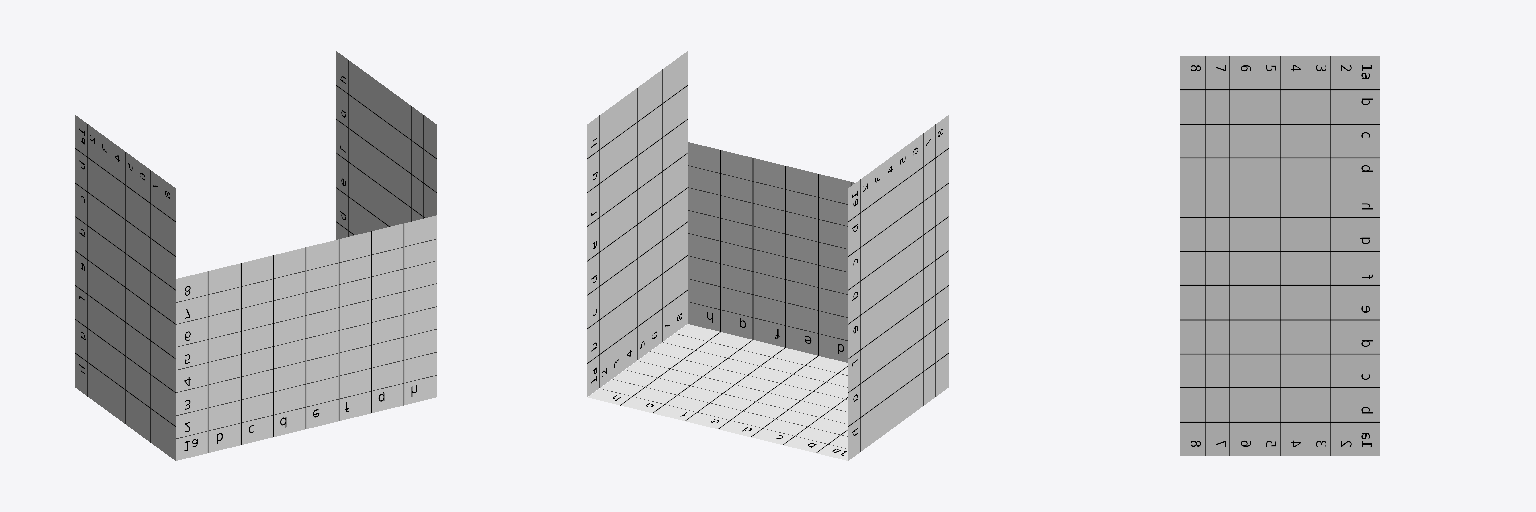
The picture shows the model from 3 angles: view 1: azimuth 30°, elevation 25°; view 2: azimuth 150°, elevation 25°; view 3: azimuth 270°, elevation 25°; orthographic projection.
Visible parts, largest first — view 1: Plane, Plane.003, Plane.001; view 2: Plane, Plane.001, Plane.003, Plane.002; view 3: Plane.001, Plane.003.
Part boxes in pixels (x1,y1,x2,y2): Plane: (176,215,436,460); Plane.003: (75,115,175,460); Plane.001: (336,51,436,239); Plane: (688,142,854,362); Plane.001: (587,51,687,396); Plane.003: (848,115,948,460); Plane.002: (588,324,847,460); Plane.001: (1180,183,1379,455); Plane.003: (1180,56,1379,182).
Size of the model in its own units: 6 by 6 by 4.
4 materials, 1 textured.